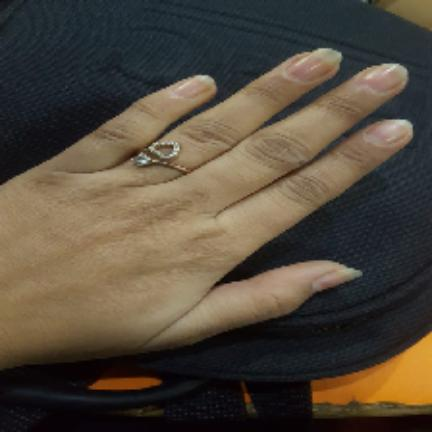Nail: (284, 49, 341, 83), (367, 64, 408, 93), (372, 120, 413, 146), (170, 75, 216, 98), (313, 268, 359, 290)
